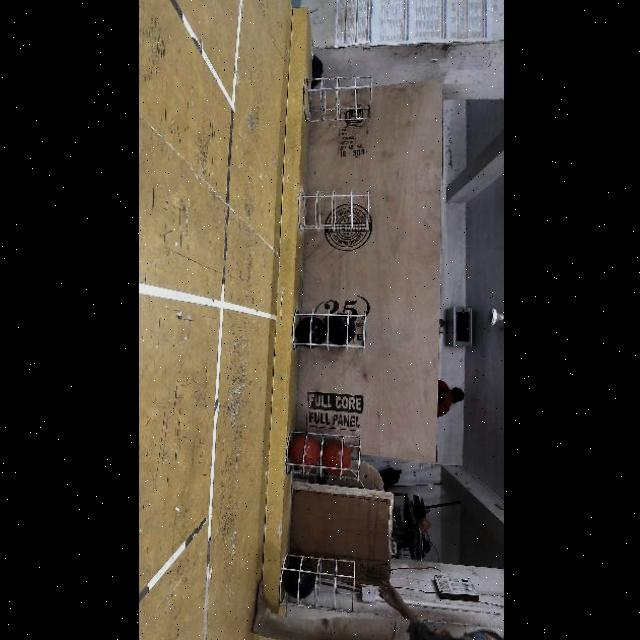P: (284, 563, 314, 597), (296, 318, 324, 346), (328, 314, 354, 344)
R: (288, 436, 320, 469), (321, 442, 349, 474)
S: (280, 551, 362, 609), (302, 72, 378, 124), (283, 428, 367, 474), (299, 185, 371, 233), (291, 310, 369, 352)
